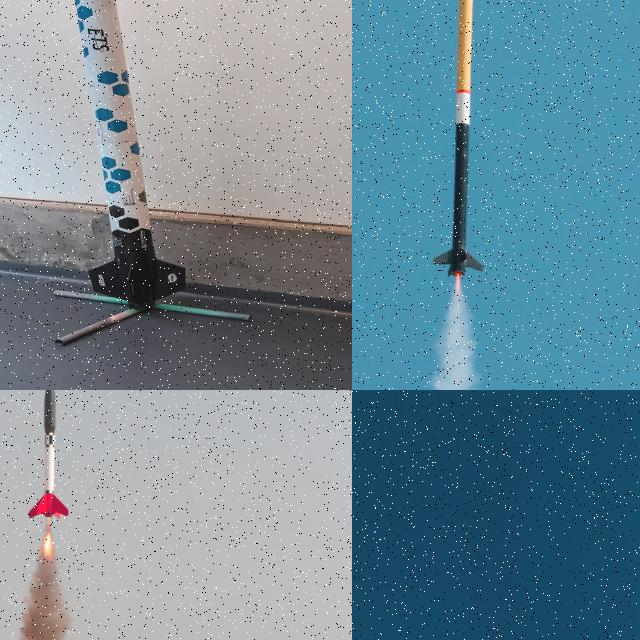Rocket: (74, 0, 186, 309), (435, 0, 485, 276), (27, 390, 70, 520)
